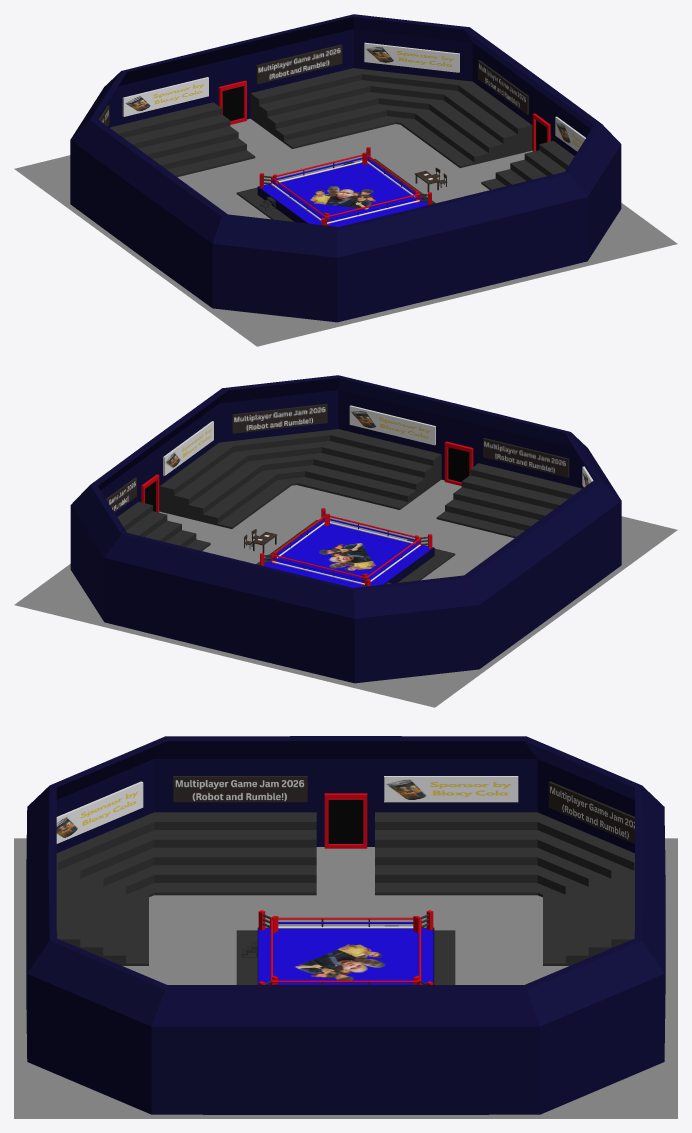
The model's file is Boxing Ring.fbx.
The picture shows the model from 3 angles, top to bottom: view 1: azimuth 30°, elevation 25°; view 2: azimuth 150°, elevation 25°; view 3: azimuth 270°, elevation 25°; orthographic projection. The views are drawn at different scales.
Parts seen in each view (by area): view 1: Cube.007, Cube.005, Plane, Cube.017, Cube.001, Cylinder.001, Cube.022, Cube; view 2: Cube.007, Cube.005, Plane, Cube.017, Cube.001, Cylinder.001, Cube.022, Cube; view 3: Cube.007, Cube.005, Plane, Cube.017, Cube.001, Cube.022, Cube, Cylinder.001.
Boxes of the visible parts, x1,y1,x2,y2 form: Cube.007: [70, 14, 621, 322]; Cube.005: [110, 68, 574, 189]; Plane: [14, 118, 677, 346]; Cube.017: [98, 42, 585, 151]; Cube.001: [257, 162, 427, 226]; Cylinder.001: [271, 154, 419, 223]; Cube.022: [218, 80, 550, 151]; Cube: [236, 159, 435, 221]; Cube.007: [70, 375, 621, 683]; Cube.005: [117, 429, 581, 550]; Plane: [14, 479, 677, 707]; Cube.017: [106, 403, 593, 512]; Cube.001: [264, 523, 434, 587]; Cylinder.001: [272, 515, 420, 584]; Cube.022: [141, 441, 473, 512]; Cube: [256, 520, 455, 582]; Cube.007: [26, 736, 665, 1114]; Cube.005: [56, 812, 634, 965]; Plane: [14, 838, 677, 1118]; Cube.017: [56, 776, 634, 843]; Cube.001: [257, 927, 434, 984]; Cube.022: [324, 793, 367, 848]; Cube: [236, 930, 455, 984]; Cylinder.001: [270, 917, 421, 984].
Size of the model in its own units: 11967 by 2323 by 11967.
